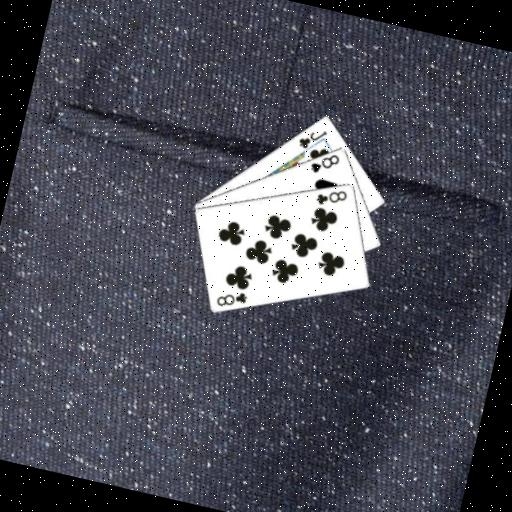8C: (312, 182, 350, 212), (213, 284, 251, 314)
8S: (306, 146, 343, 179)
JC: (294, 122, 330, 155)
